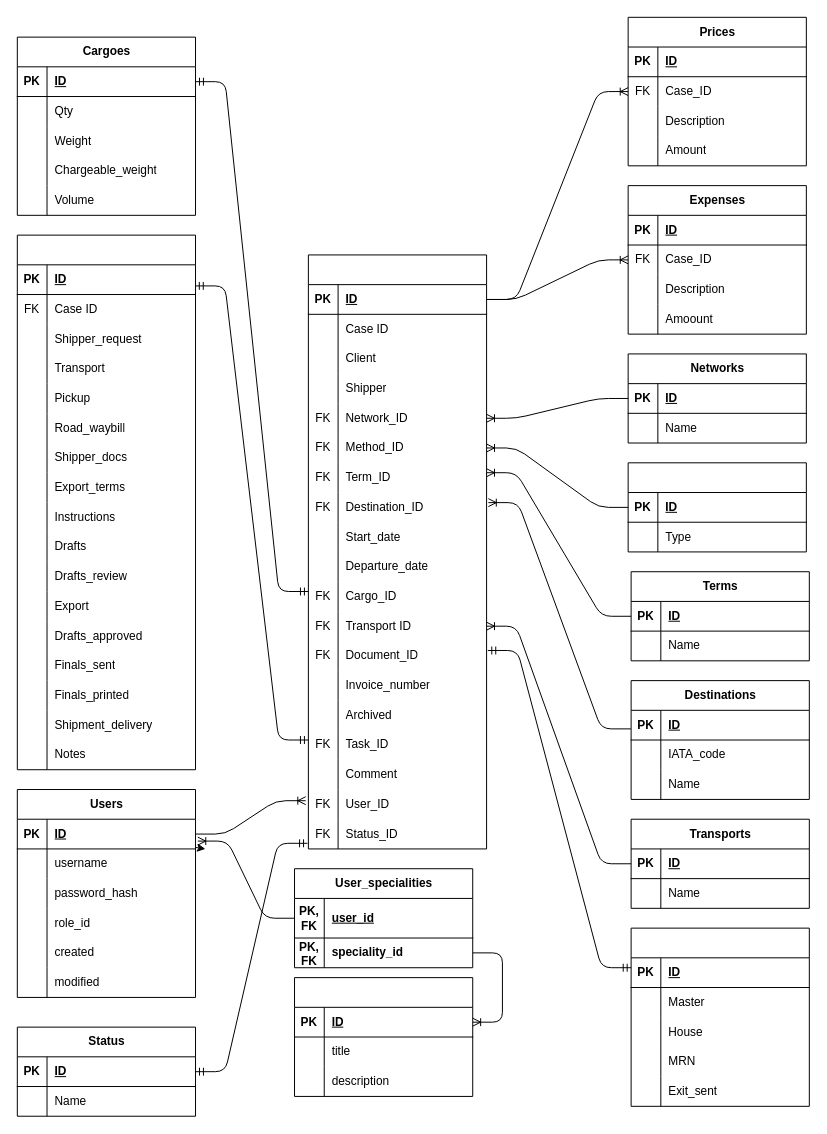
Some shapes in this 827 by 1134 pixel diagram are drawn without their labels. Here are the shapes that lost their labels. From the top down, the box of each, then its label:
(16, 234, 196, 770): Tasks
(627, 462, 806, 552): Methods
(307, 254, 487, 849): Cases
(294, 977, 473, 1096): Specialities
(630, 927, 809, 1106): Documents
